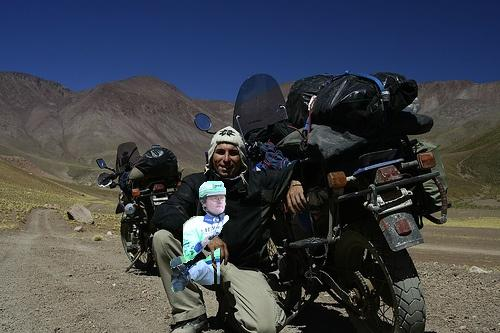tampered: (171, 182, 229, 292)
